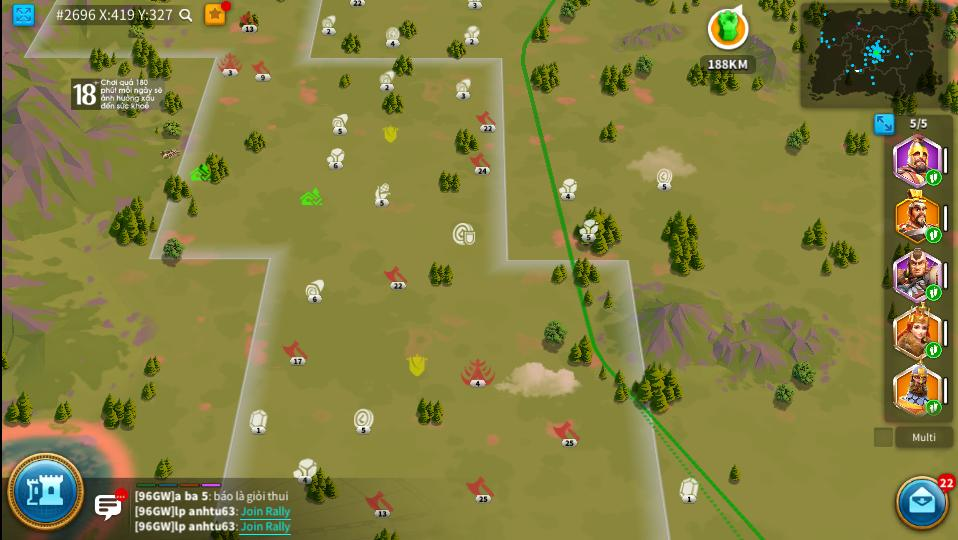gem-z-out: (678, 477, 701, 505), (249, 408, 267, 435)
march_marching: (925, 228, 942, 242), (926, 170, 940, 185), (927, 400, 941, 415), (926, 285, 940, 299), (928, 343, 940, 357)
